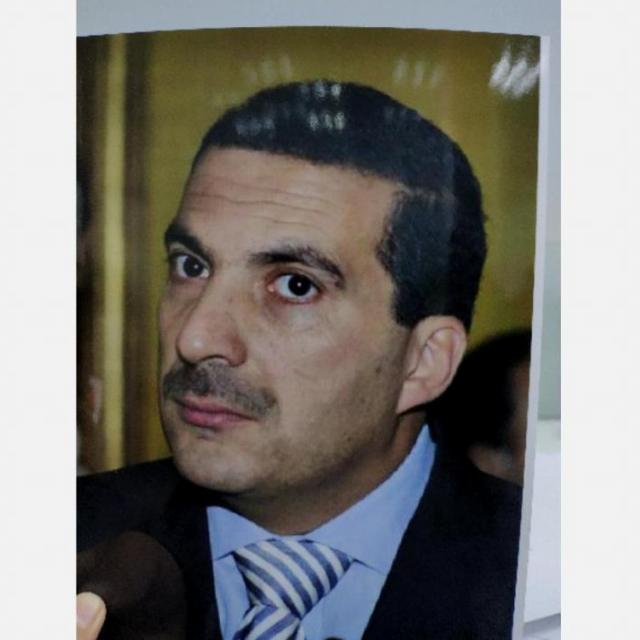photo: (75, 25, 553, 640)
